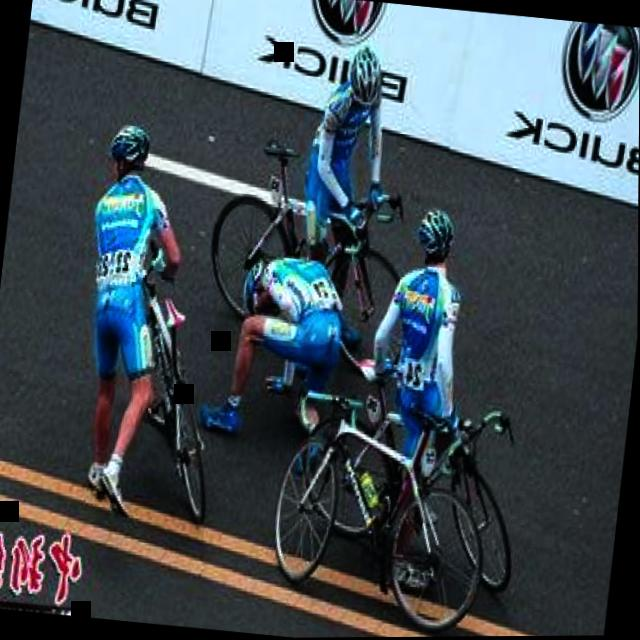Fall-Detected: (192, 229, 368, 462)
